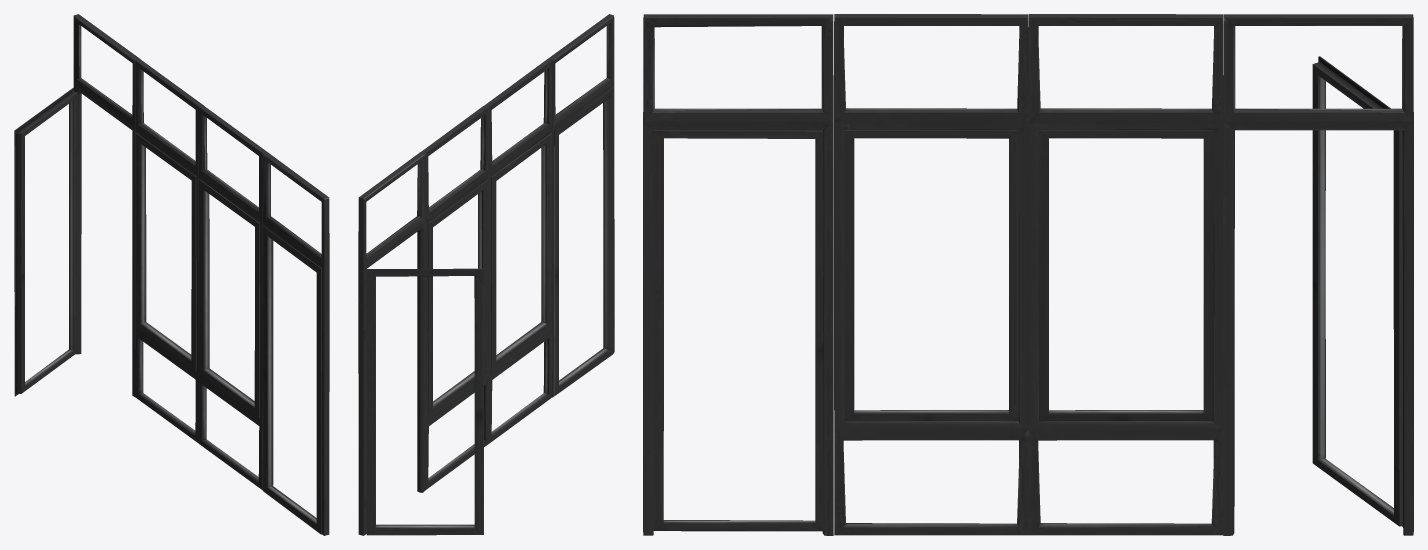
File: FrenchWindow4_0001.obj
The picture shows the model from 3 angles, left to right: view 1: azimuth 30°, elevation 25°; view 2: azimuth 150°, elevation 25°; view 3: azimuth 270°, elevation 25°; orthographic projection. The views are drawn at different scales.
Size of the model in its own units: 0.695 by 2.36 by 3.18.
Materials: 1 (1 with a texture image).
